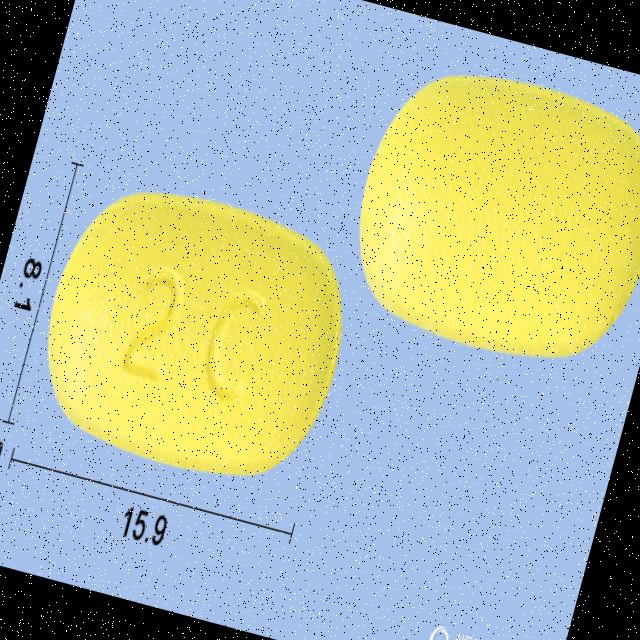Clithocin - 500mg: (13, 163, 370, 507), (331, 47, 640, 380)
